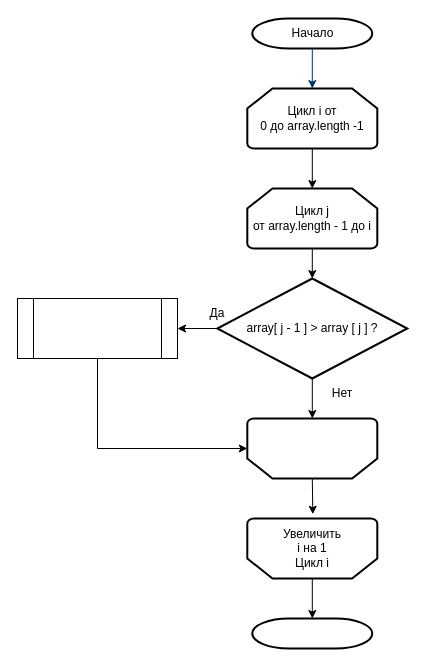
This 426x666 diagram has some shape labels left out. The centre of each missing label's shape, as x and y in pixels:
Конец: the point at 312,633
Поменять местами array [ j - 1 ] и array [ j ]: the point at 97,328
Уменьшить j на 1 Цикл j: the point at 312,448
